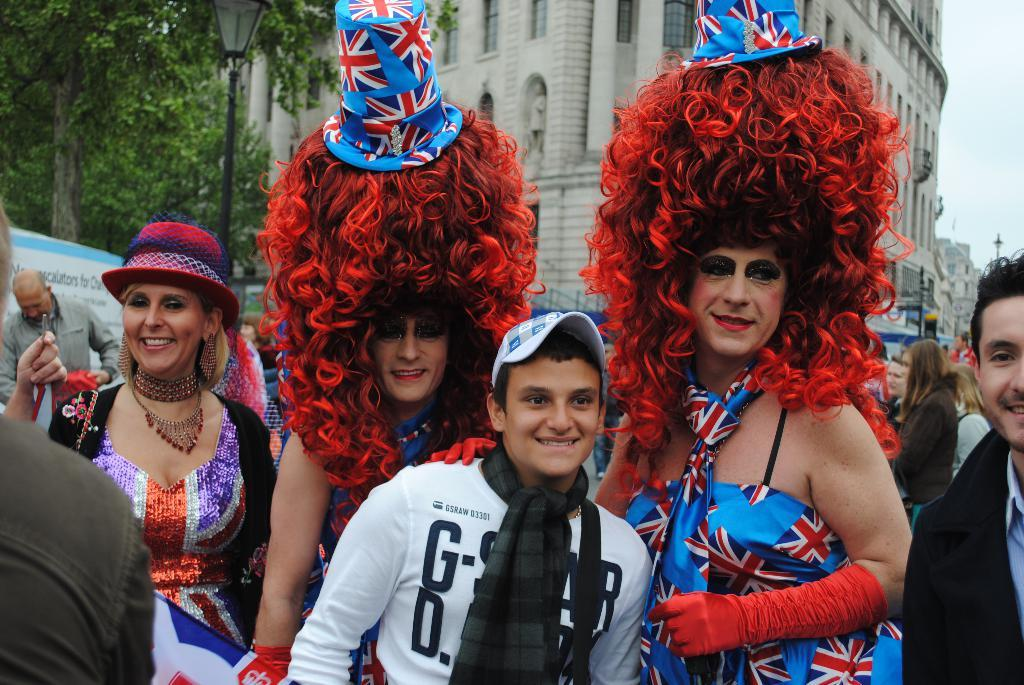Hat: (107, 219, 252, 324)
